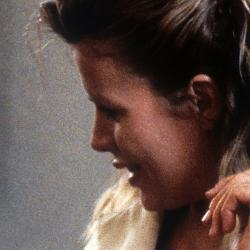face: (19, 5, 239, 217)
